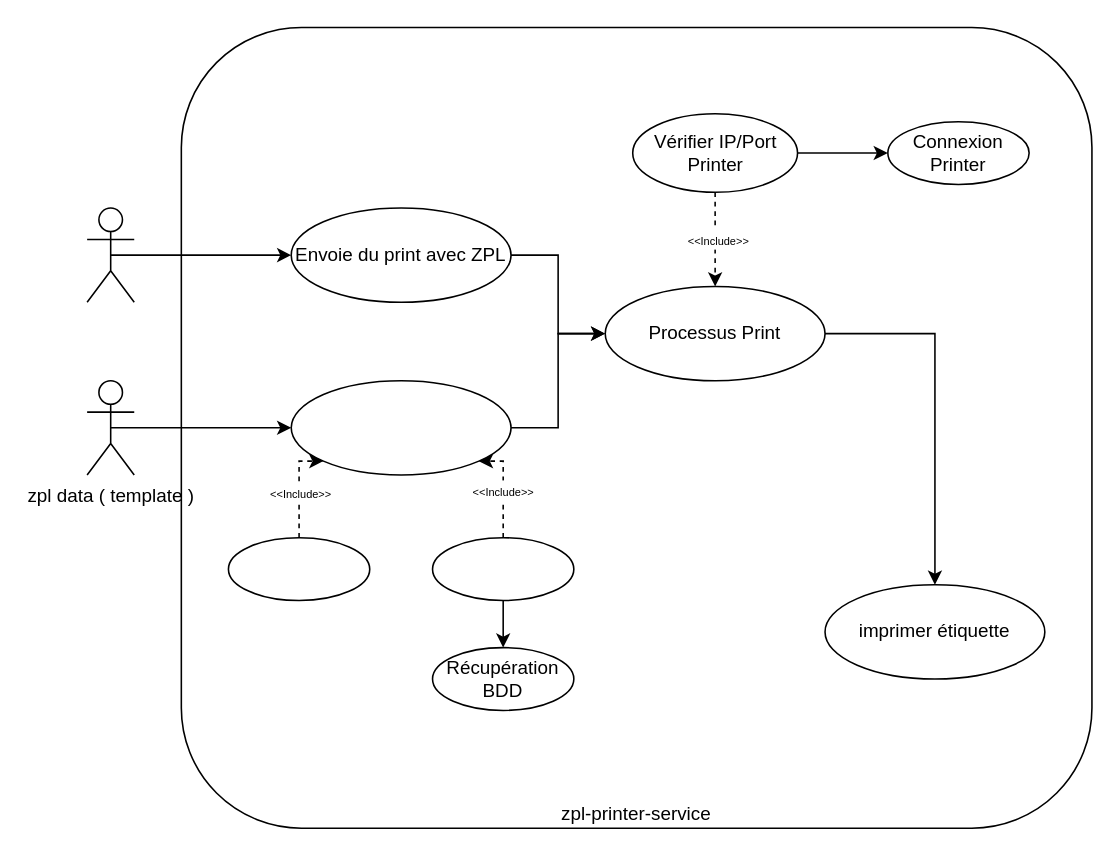
The diagram is 1119 pixels wide and 856 high, and some of its shapes have lost their labels. The centre of each missing label's shape, as x and y in pixels:
Envoie du print avec template: the point at 400,427
Remplacer JSON: the point at 502,568
Valider JSON: the point at 298,568
zpl intégré: the point at 110,254
